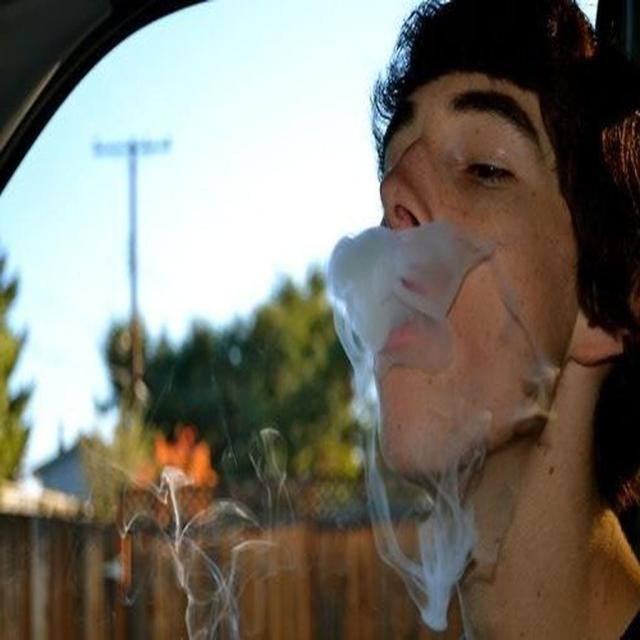smoking: (315, 215, 524, 402)
